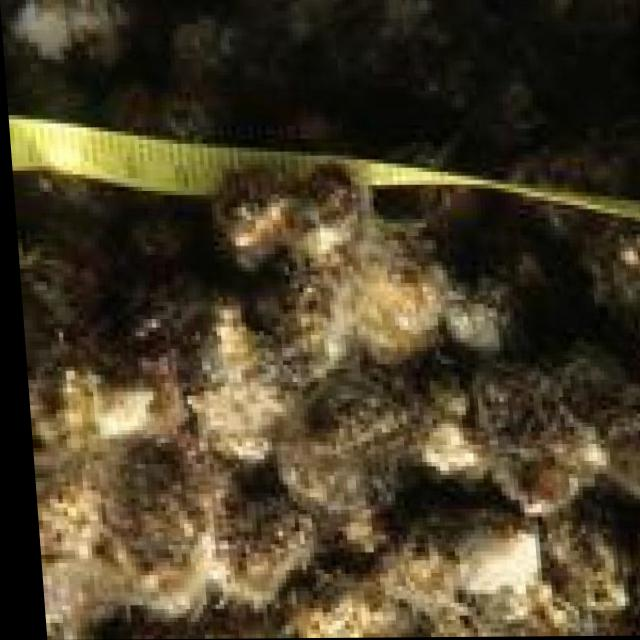Dead Coral: (11, 180, 640, 640)
